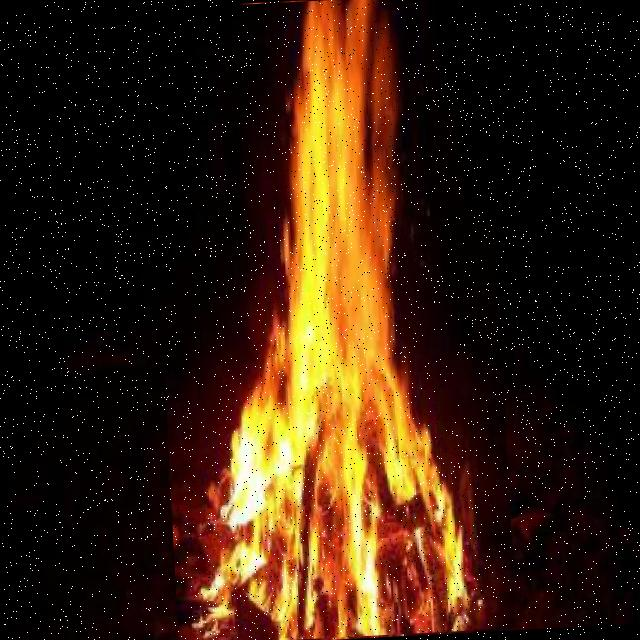fire: (145, 0, 516, 640)
